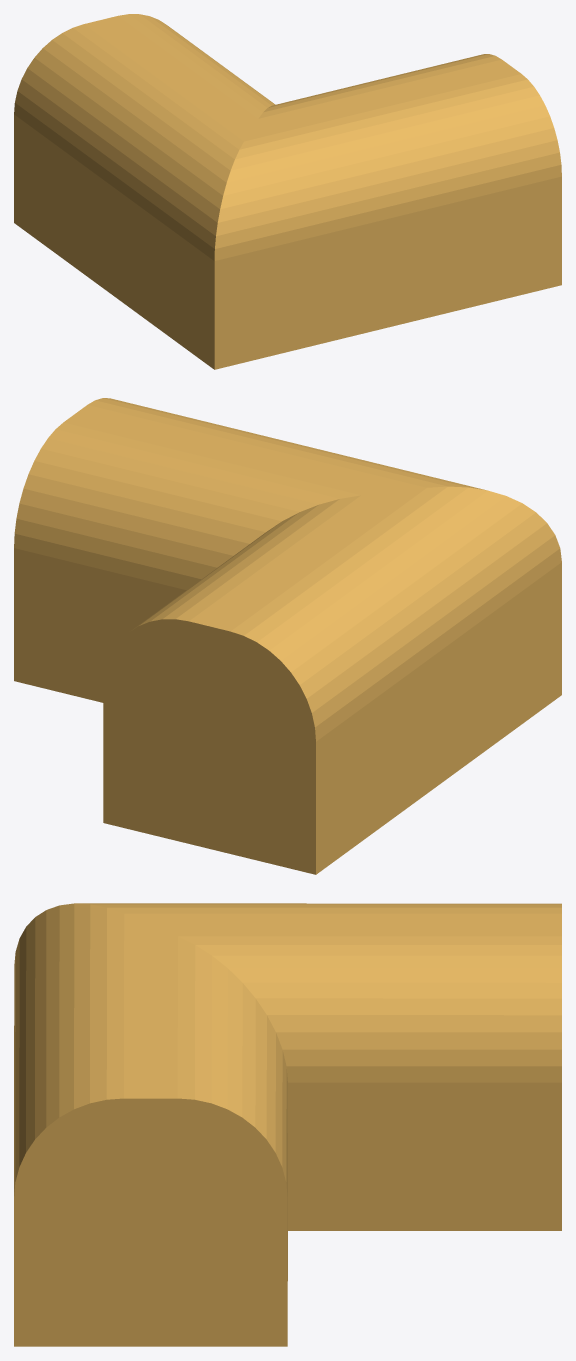
File: Ecke.fbx
3 renders of one model, top to bottom at view 1: azimuth 30°, elevation 25°; view 2: azimuth 150°, elevation 25°; view 3: azimuth 270°, elevation 25°, orthographic. The views are drawn at different scales.
Parts seen in each view (by area): view 1: Cube.005; view 2: Cube.005; view 3: Cube.005.
Boxes of the visible parts, x1,y1,x2,y2 form: Cube.005: (14, 14, 561, 369); Cube.005: (14, 398, 561, 874); Cube.005: (14, 903, 561, 1346).
Size of the model in its own units: 200 by 100 by 200.
